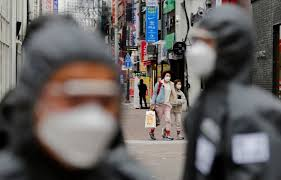mask: (26, 46, 121, 171), (184, 15, 238, 85), (163, 72, 170, 83), (175, 78, 180, 90)
